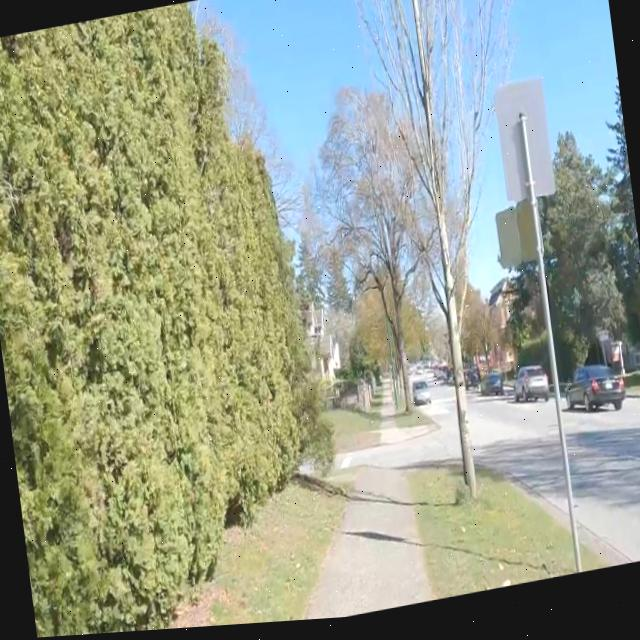Automobile: (565, 373, 624, 419), (513, 372, 548, 408), (480, 379, 503, 402), (411, 383, 429, 410)
Road: (560, 405, 640, 571), (468, 402, 567, 533), (336, 403, 457, 473), (396, 403, 456, 467), (475, 422, 492, 451)
Sidewalk: (304, 471, 431, 624), (377, 432, 432, 449)
